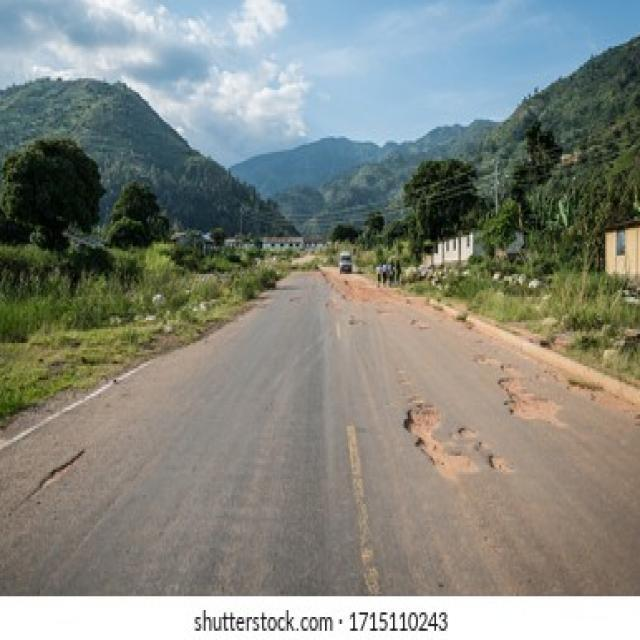Pothole: (406, 405, 476, 474), (499, 376, 562, 426), (489, 454, 511, 472), (474, 354, 498, 364), (458, 426, 474, 440), (478, 439, 488, 452), (500, 364, 514, 373), (409, 396, 423, 405)
